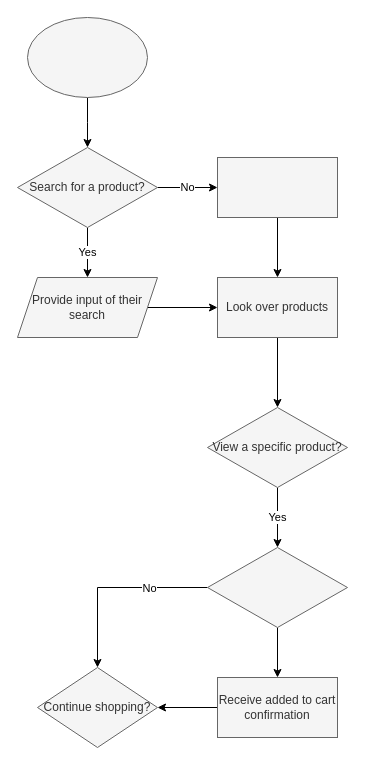
Some shapes in this 365 by 765 pixel diagram are drawn without their labels. Each missing label, with the box of its shape:
Add product to cart?: (206, 546, 348, 628)
Explore products on the home page: (216, 156, 338, 218)
User enters website: (26, 16, 148, 98)
